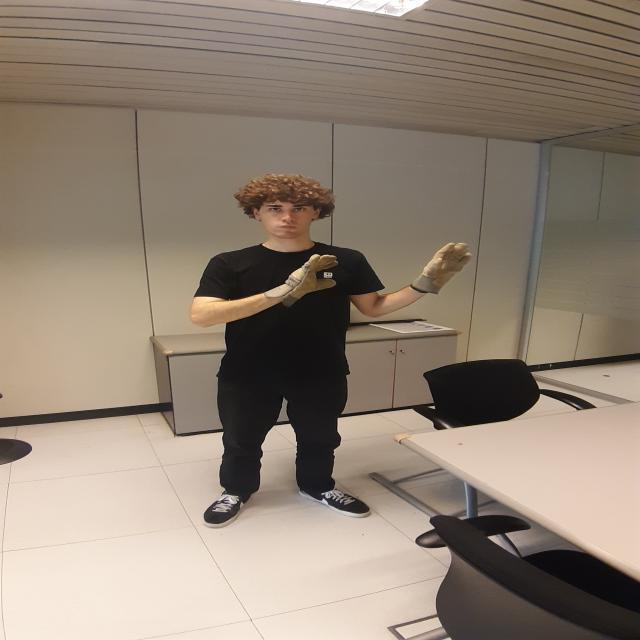gloved_hand: (269, 254, 338, 306), (413, 243, 474, 296)
